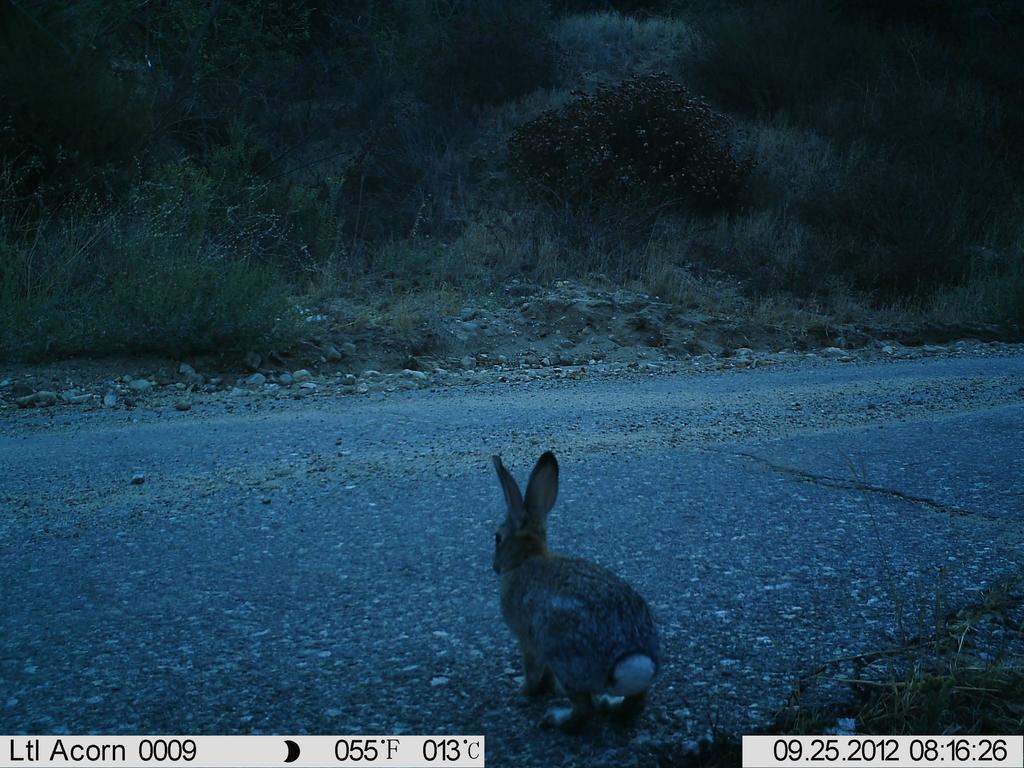rabbit: (481, 450, 670, 731)
